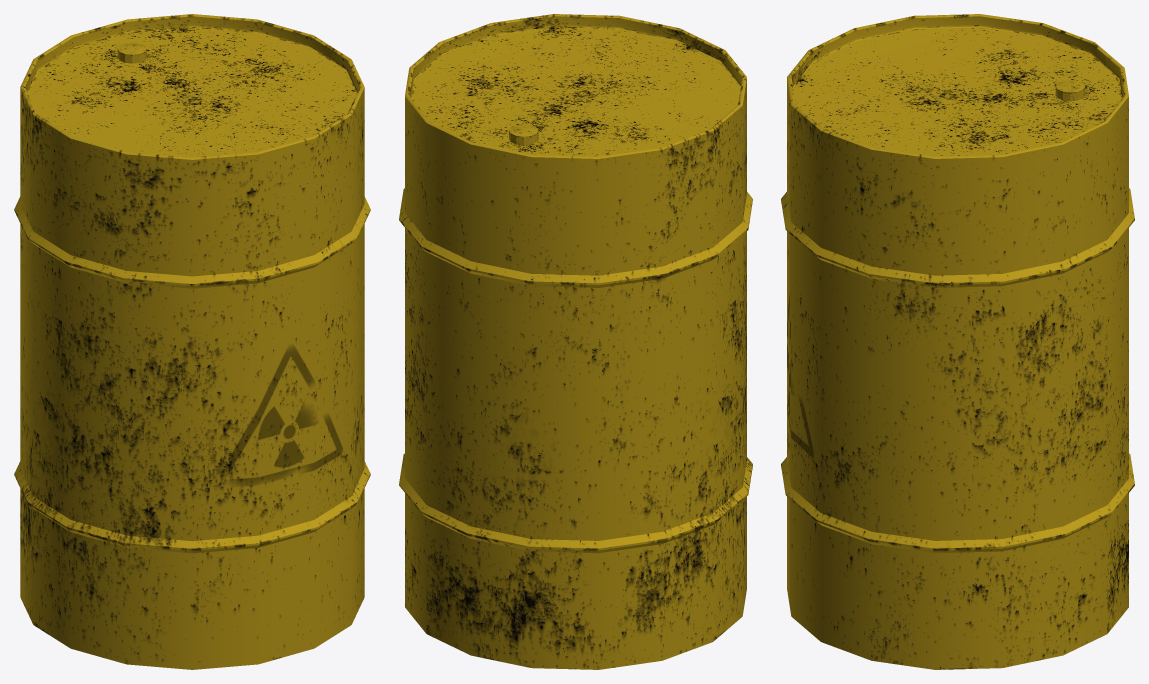
The model's file is uploads_files_2230533_barrel-game.fbx.
3 views of the same model, side by side, from view 1: azimuth 30°, elevation 25°; view 2: azimuth 150°, elevation 25°; view 3: azimuth 270°, elevation 25° (orthographic).
Visible parts, largest first — view 1: barrell; view 2: barrell; view 3: barrell.
Part boxes in pixels (box(x1,y1,x2,y2)): barrell: box(14, 14, 370, 669); barrell: box(399, 14, 752, 669); barrell: box(781, 14, 1134, 669).
Bounding box in the file's own units: 6.18 × 9.87 × 6.18.
1 material, 1 textured.
